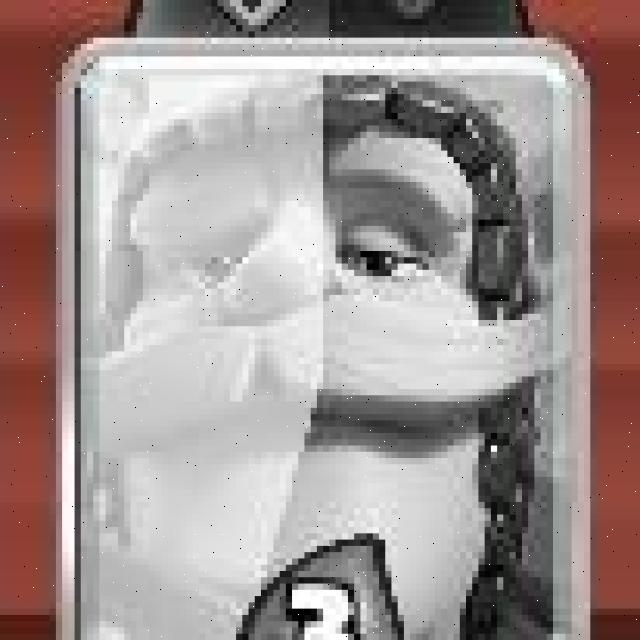Knight: (62, 38, 594, 640)
